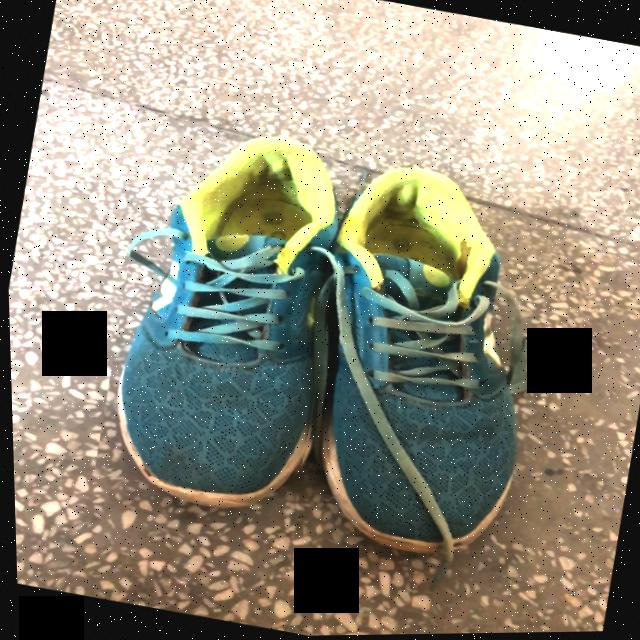shoe: (116, 141, 336, 501)
